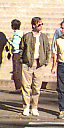person: (21, 17, 48, 119)
